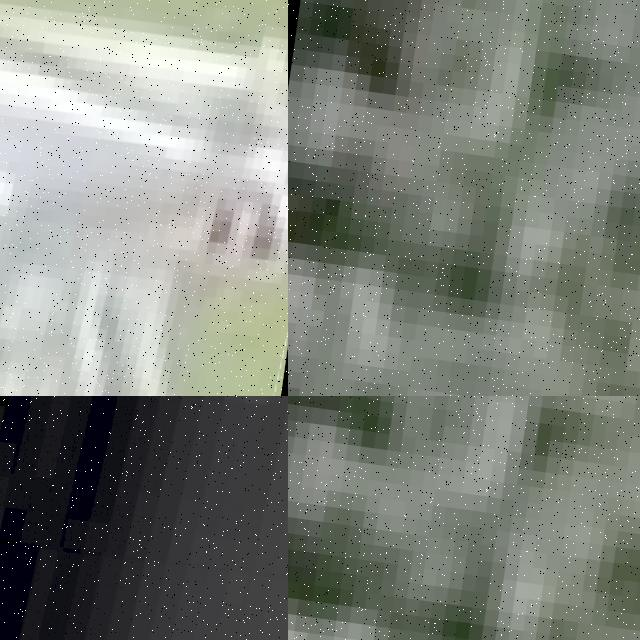drone: (0, 0, 288, 396), (0, 396, 288, 640)
